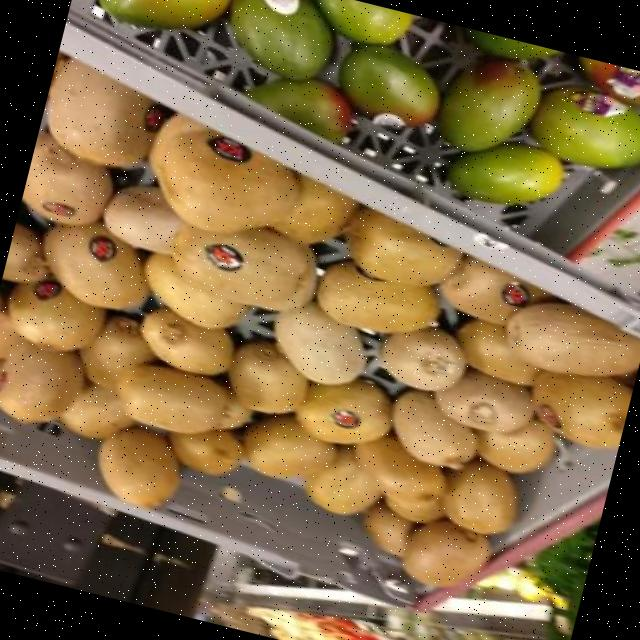kiwi: (148, 115, 299, 231), (46, 59, 171, 166), (173, 223, 315, 310), (508, 302, 640, 375), (43, 220, 148, 308), (316, 260, 438, 331), (349, 205, 456, 285), (22, 132, 112, 223), (439, 254, 550, 324), (530, 371, 629, 447), (118, 363, 225, 433), (146, 254, 247, 328), (276, 301, 366, 384), (0, 340, 83, 422), (0, 340, 83, 421), (9, 280, 104, 349), (98, 426, 178, 507), (390, 392, 475, 468), (140, 306, 233, 373), (294, 378, 389, 442), (268, 174, 354, 243), (435, 369, 529, 432), (354, 435, 442, 501), (227, 341, 307, 412), (401, 519, 485, 586), (242, 415, 335, 475), (78, 314, 152, 389), (443, 459, 516, 533), (381, 326, 465, 390), (454, 321, 538, 384), (104, 186, 182, 252), (306, 445, 380, 514), (476, 418, 553, 471), (59, 383, 133, 438), (169, 430, 242, 475), (1, 222, 46, 282), (363, 501, 412, 555), (385, 493, 441, 521), (213, 387, 251, 427), (0, 296, 22, 356), (252, 152, 261, 159)
